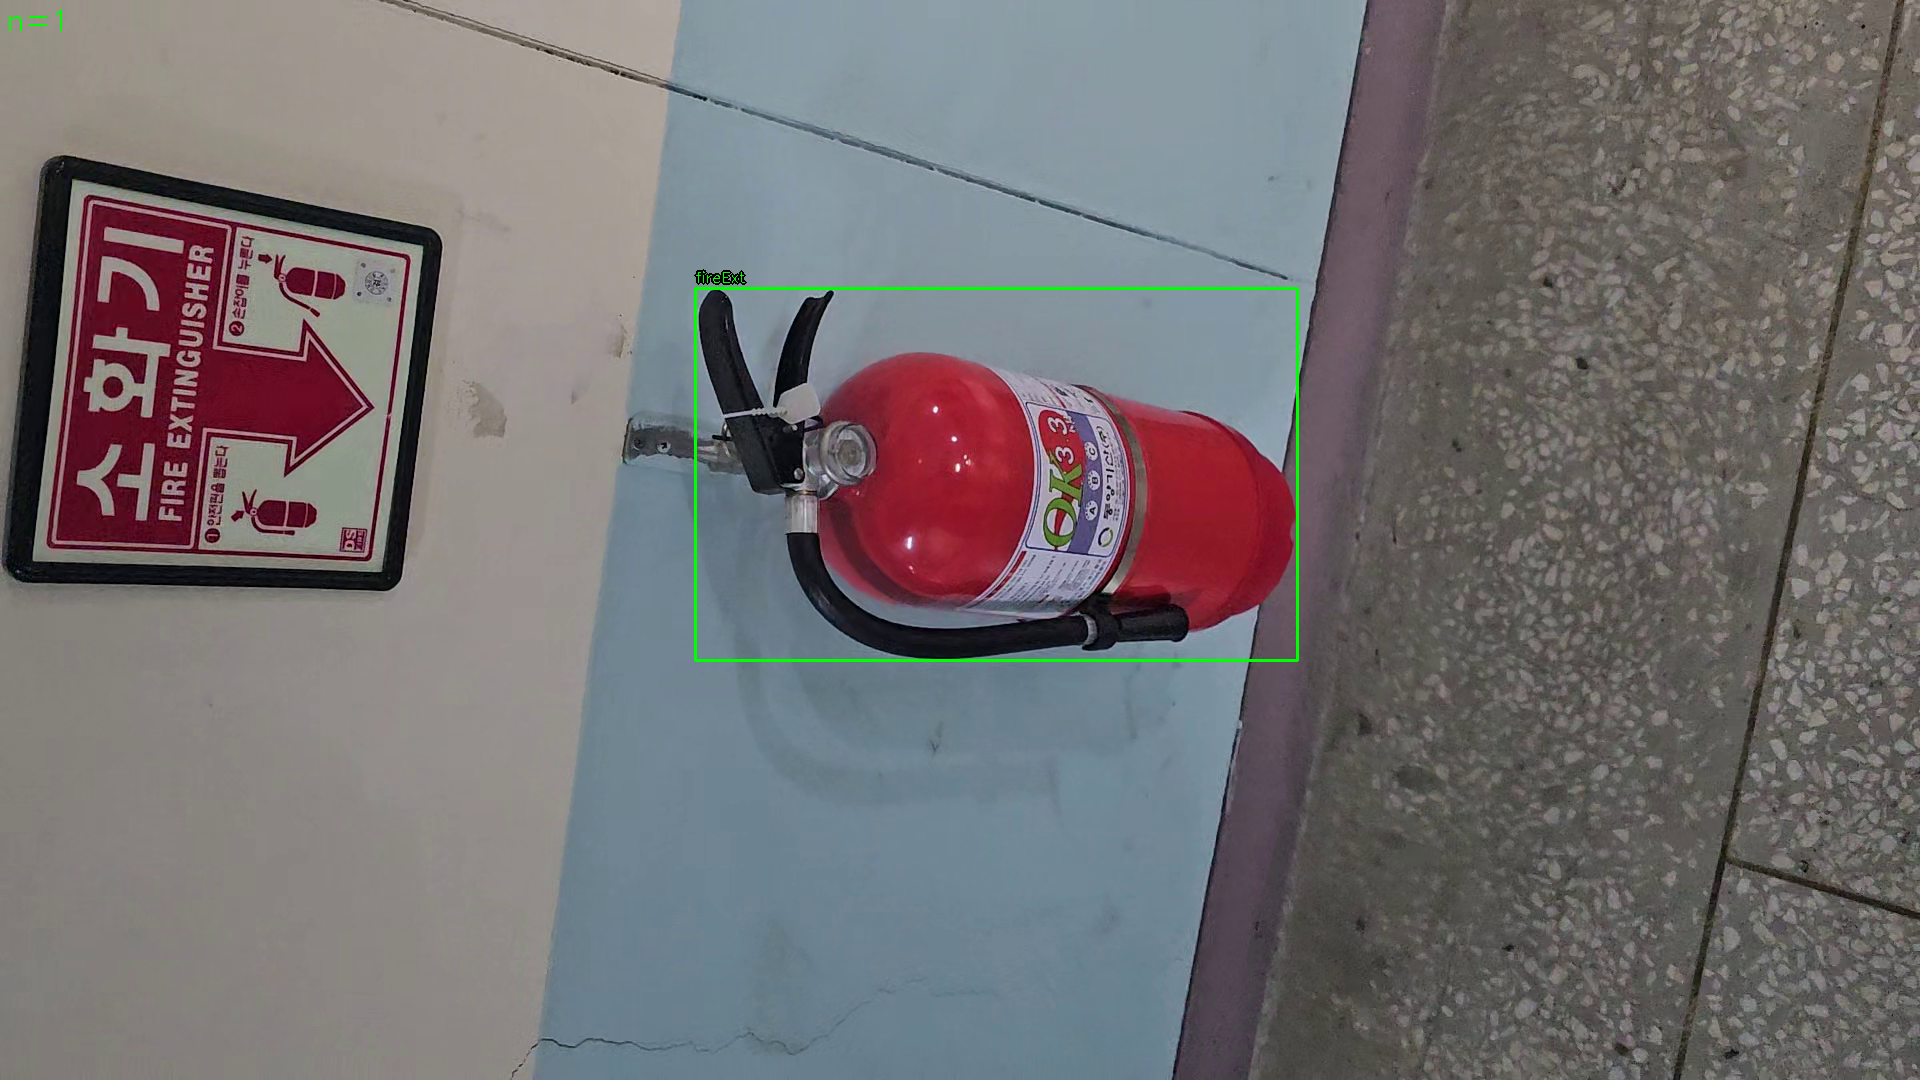lane: (695, 287, 1298, 661)
